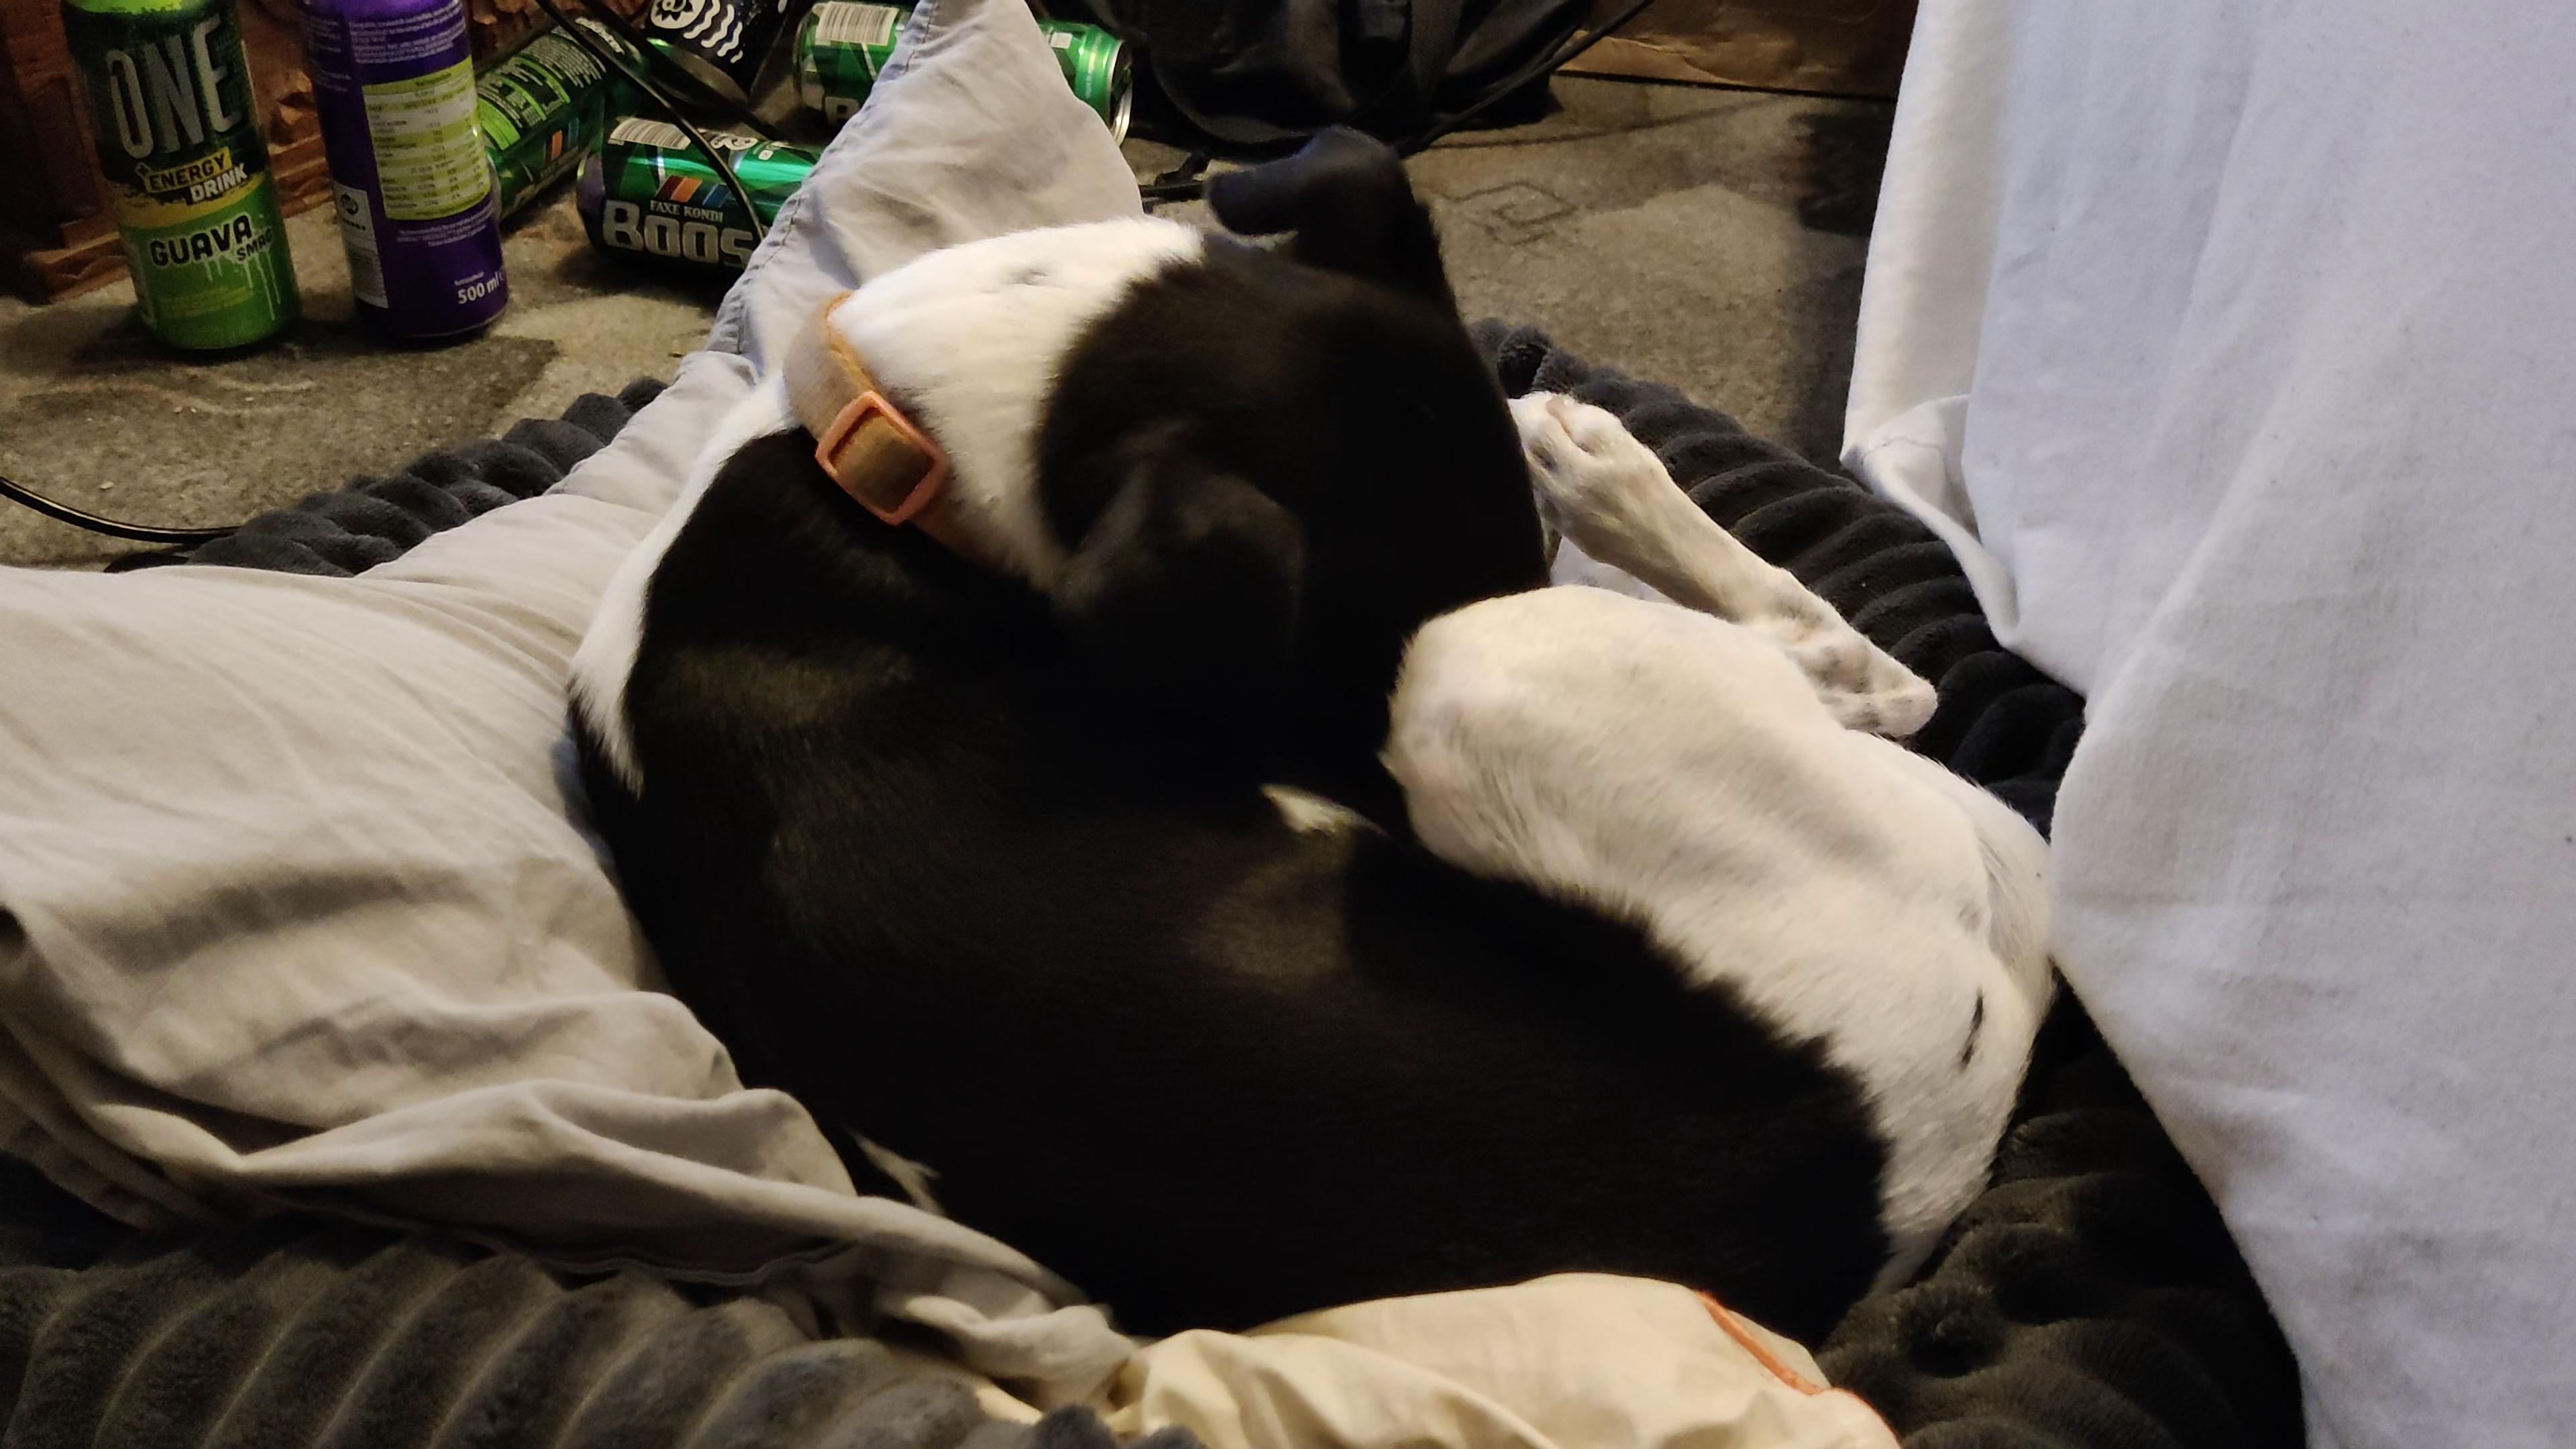Dog: (547, 115, 2074, 1387)
